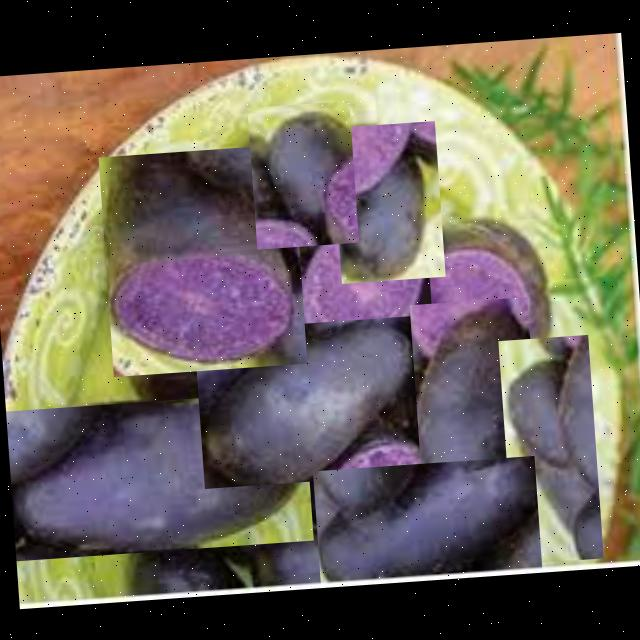Defected potato: (5, 390, 314, 560), (98, 142, 307, 376), (194, 314, 424, 488), (312, 454, 542, 588), (409, 296, 541, 508), (498, 333, 603, 563), (291, 206, 435, 368), (330, 120, 446, 282), (247, 100, 359, 248)
